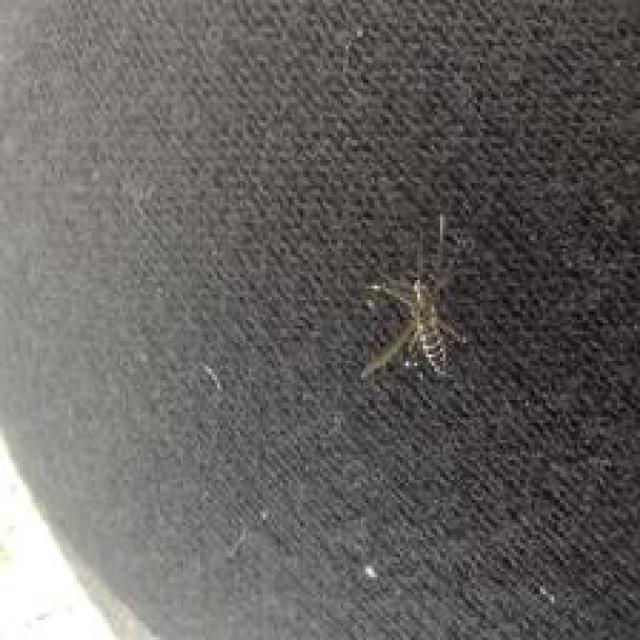Aedes albopictus: (356, 213, 470, 384)
